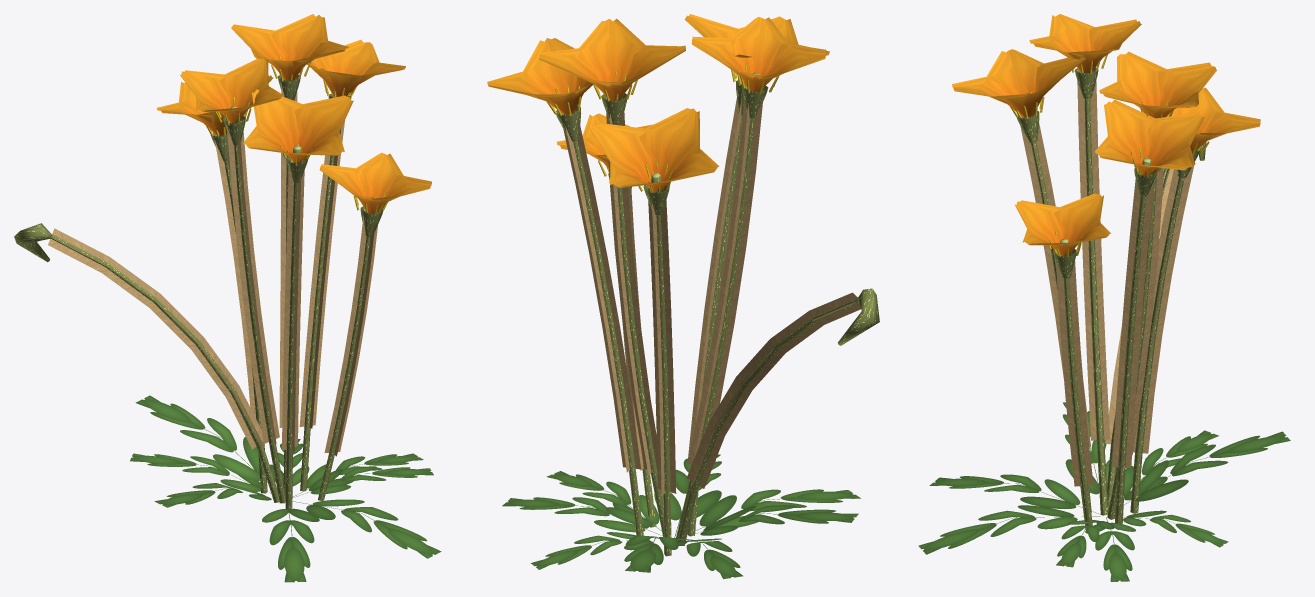
The model's file is arctic_poppy_v03_LOD1.fbx.
The picture shows the model from 3 angles, left to right: view 1: azimuth 30°, elevation 25°; view 2: azimuth 150°, elevation 25°; view 3: azimuth 270°, elevation 25°; orthographic projection. The views are drawn at different scales.
Parts seen in each view (by area): view 1: arctic_poppy_v03_LOD1; view 2: arctic_poppy_v03_LOD1; view 3: arctic_poppy_v03_LOD1.
Part boxes in pixels (bbox=[...]): arctic_poppy_v03_LOD1: bbox=[14, 14, 441, 582]; arctic_poppy_v03_LOD1: bbox=[487, 14, 879, 579]; arctic_poppy_v03_LOD1: bbox=[918, 14, 1290, 581].
Size of the model in its own units: 21.89 by 19.74 by 25.6.
Materials: 5 (5 with a texture image).
